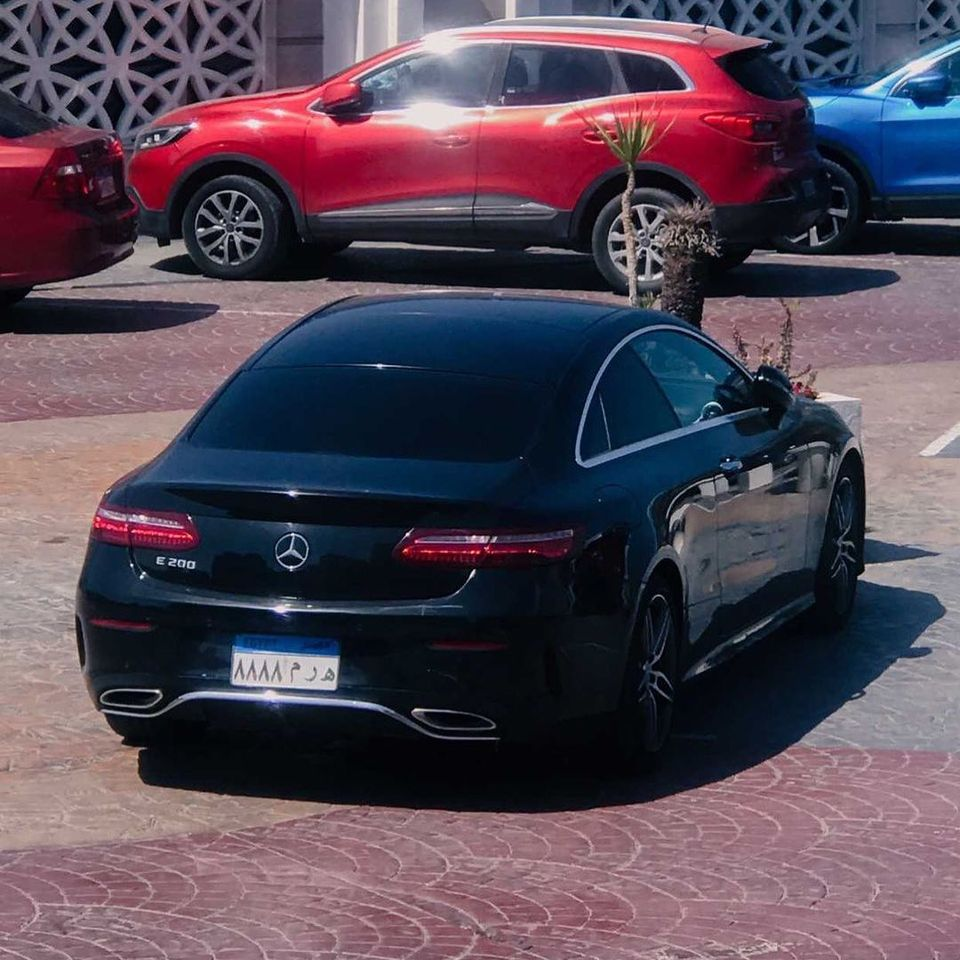carpl: (210, 630, 347, 694)
